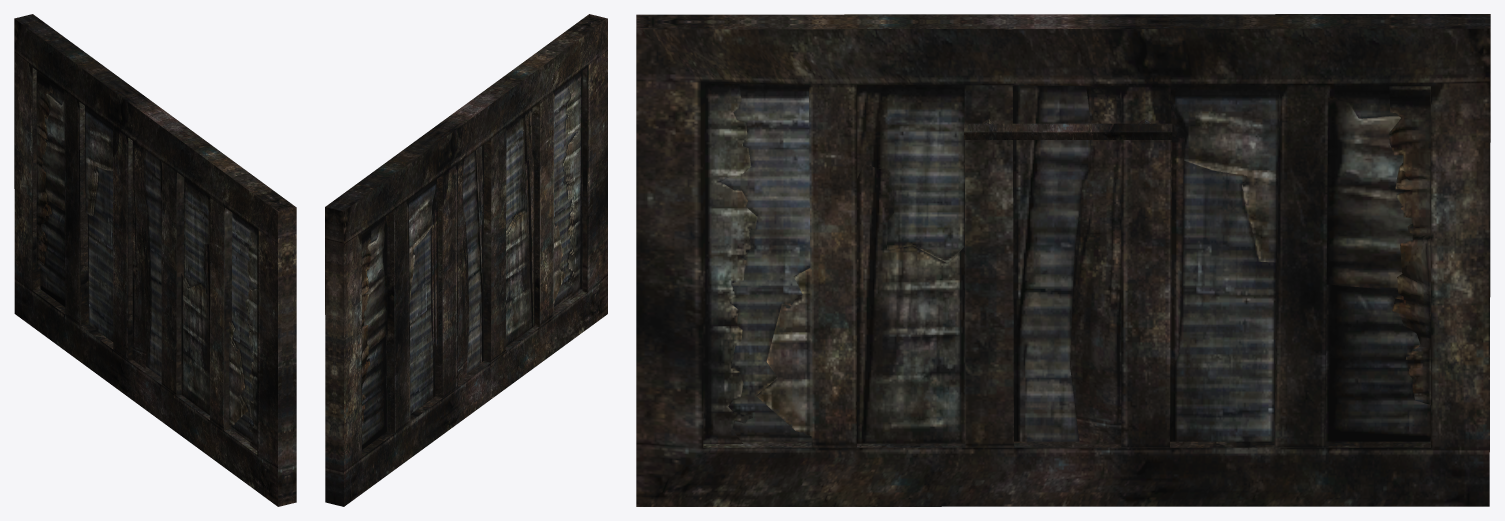
The model's file is newdoor - rev1.obj.
The picture shows the model from 3 angles, left to right: view 1: azimuth 30°, elevation 25°; view 2: azimuth 150°, elevation 25°; view 3: azimuth 270°, elevation 25°; orthographic projection. The views are drawn at different scales.
Parts seen in each view (by area): view 1: NewDoor_Cube.001; view 2: NewDoor_Cube.001; view 3: NewDoor_Cube.001.
Part boxes in pixels (x1,y1,x2,y2): NewDoor_Cube.001: (14,14,296,506); NewDoor_Cube.001: (325,14,607,506); NewDoor_Cube.001: (636,14,1490,506).
Size of the model in its own units: 10.73 by 96.59 by 156.
1 material, 1 textured.
